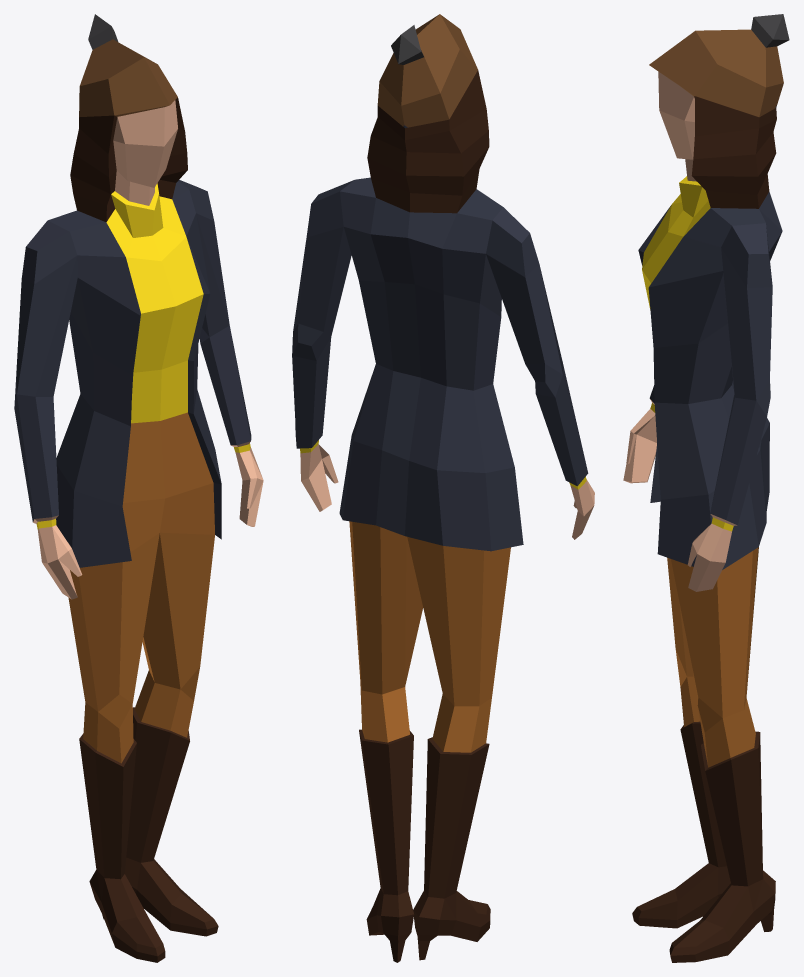
File: AutumnWomanB.001.glb
3 renders of one model, left to right at view 1: azimuth 30°, elevation 25°; view 2: azimuth 150°, elevation 25°; view 3: azimuth 270°, elevation 25°, orthographic. The views are drawn at different scales.
Parts seen in each view (by area): view 1: AutumnWomanB.001; view 2: AutumnWomanB.001; view 3: AutumnWomanB.001.
Boxes of the visible parts, left/top/right/bottom form: AutumnWomanB.001: left=14, top=14, right=263, bottom=962; AutumnWomanB.001: left=292, top=14, right=594, bottom=962; AutumnWomanB.001: left=623, top=14, right=789, bottom=962.
Size of the model in its own units: 0.5073 by 1.75 by 0.2875.
Materials: 1 (1 with a texture image).
